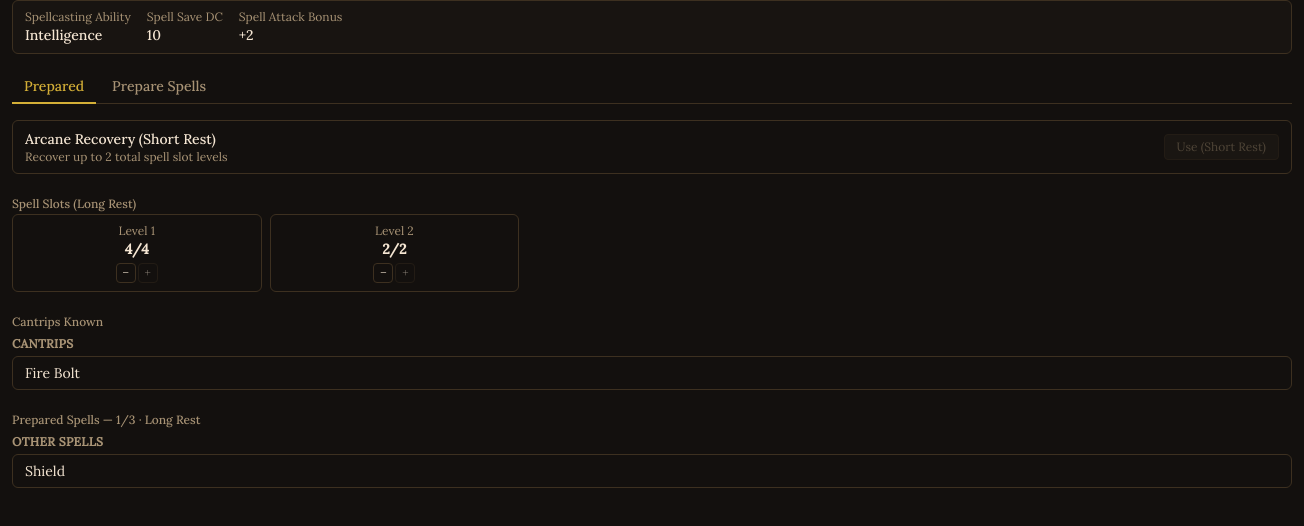
Test case: WizardSheet lock/unlock mechanics › shows GM unlock button when locked
Click the button "Prepare Spells" at [159, 87], box [100,70,218,104]
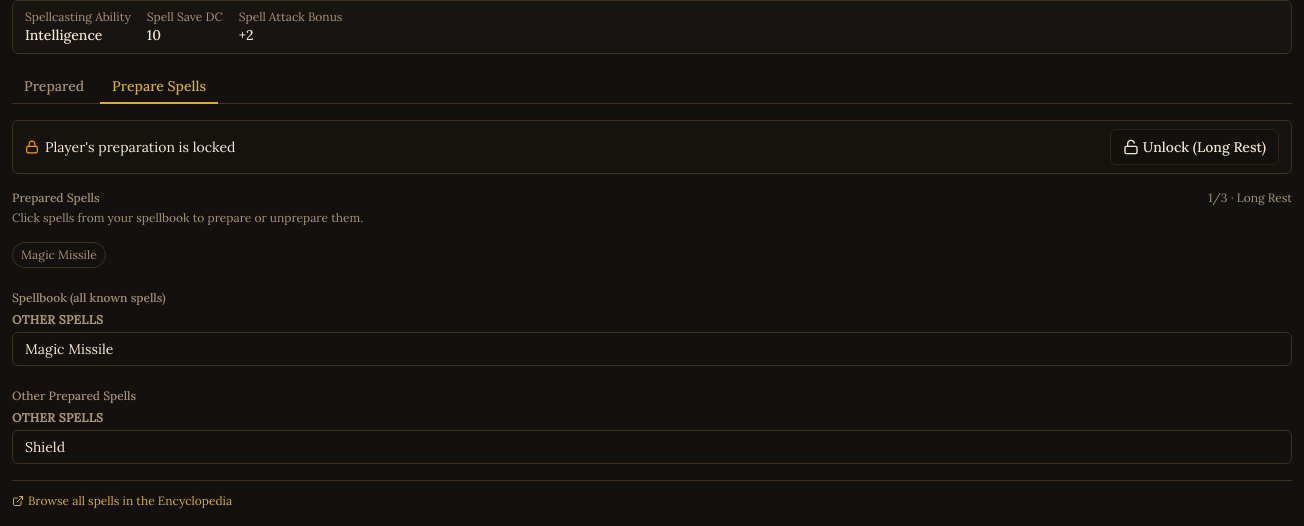
Result: the button "Unlock (Long Rest)" is shown at [1110,129,1279,165]
